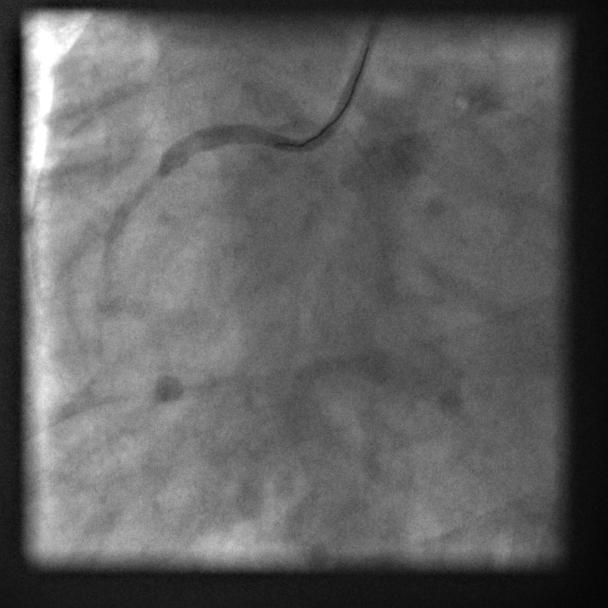Stenosis: (110, 168, 173, 213)
